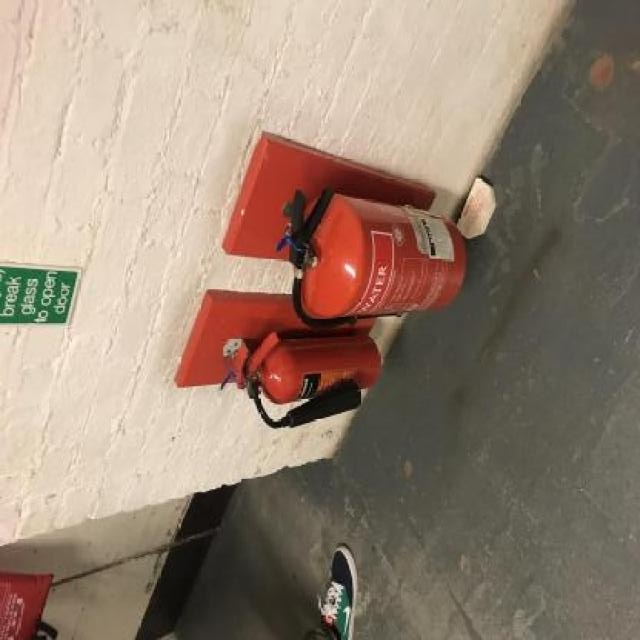fire extinguisher: (289, 187, 468, 328), (231, 332, 381, 430)
